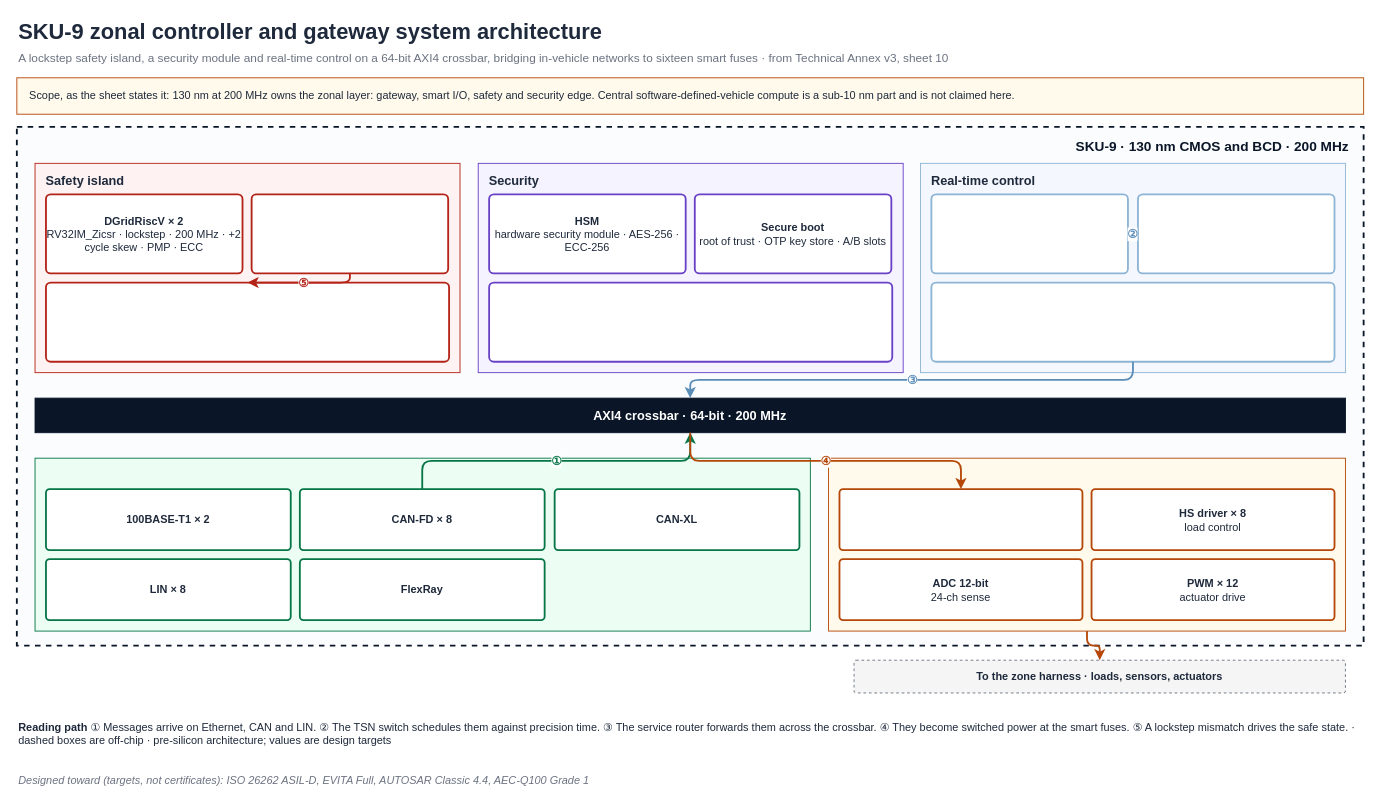
This 1380x806 diagram has some shape labels left out. The shapes that lost their labels are listed below. From the top down, each one's box as (x1, y1, x2, y2) in pixels, then its label:
(250, 193, 449, 274): Comparator bus + retire · mismatch → safe state
(930, 193, 1128, 274): TSN switch 802.1Qbv · time-aware shaper
(1137, 193, 1335, 274): PTP 802.1AS clock · sub-µs sync
(45, 281, 450, 362): Freedom from interference MPU + bus firewall
(488, 281, 893, 362): OTA engine signed image verify + rollback
(930, 281, 1335, 362): Service router SOME/IP + DoIP
(838, 488, 1083, 551): Smart fuse × 16 eFuse + sense · replaces relay box
(34, 457, 810, 631): In-vehicle network · gateway
(828, 457, 1345, 631): Zonal power + I/O
